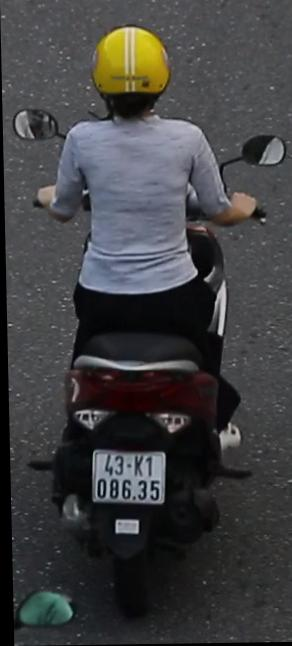LP: (86, 445, 169, 512)
helmet: (87, 20, 174, 129)
